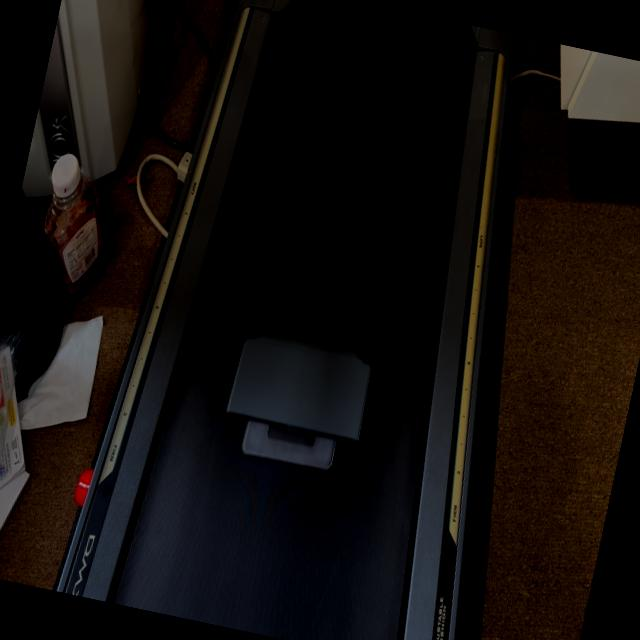Trash: (214, 318, 382, 484)
